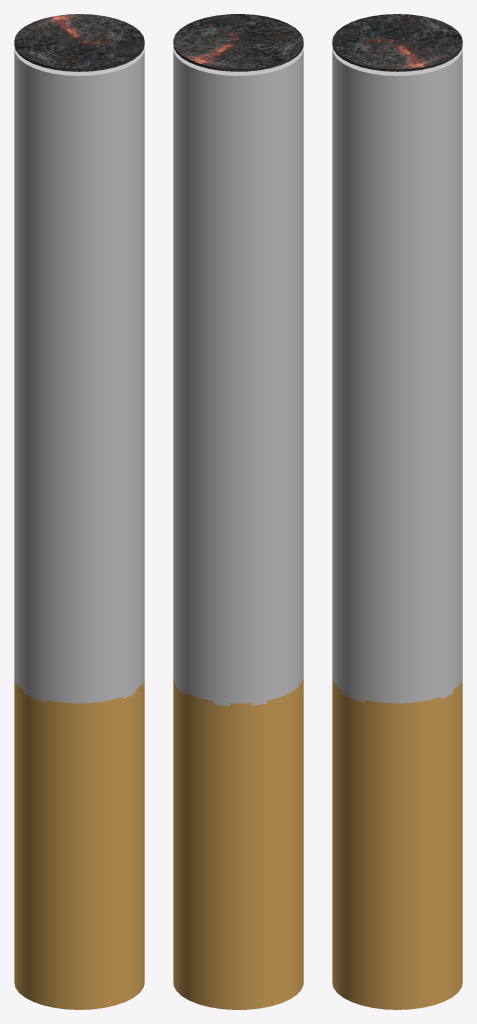
Rendered from cig.glb.
3 renders of one model, left to right at view 1: azimuth 90°, elevation 25°; view 2: azimuth 210°, elevation 25°; view 3: azimuth 270°, elevation 25°, orthographic.
Parts seen in each view (by area): view 1: Cylinder.001, Cylinder, Cylinder.002; view 2: Cylinder.001, Cylinder, Cylinder.002; view 3: Cylinder.001, Cylinder, Cylinder.002.
Part boxes in pixels (left/top/right/bottom): Cylinder.001: left=14, top=47, right=144, bottom=703; Cylinder: left=14, top=679, right=144, bottom=1009; Cylinder.002: left=14, top=14, right=144, bottom=71; Cylinder.001: left=173, top=46, right=303, bottom=705; Cylinder: left=173, top=677, right=303, bottom=1009; Cylinder.002: left=173, top=14, right=303, bottom=71; Cylinder.001: left=332, top=47, right=462, bottom=703; Cylinder: left=332, top=677, right=462, bottom=1009; Cylinder.002: left=332, top=14, right=462, bottom=71.
Size of the model in its own units: 0.0166 by 0.1319 by 0.0166.
Materials: 4 (1 with a texture image).
